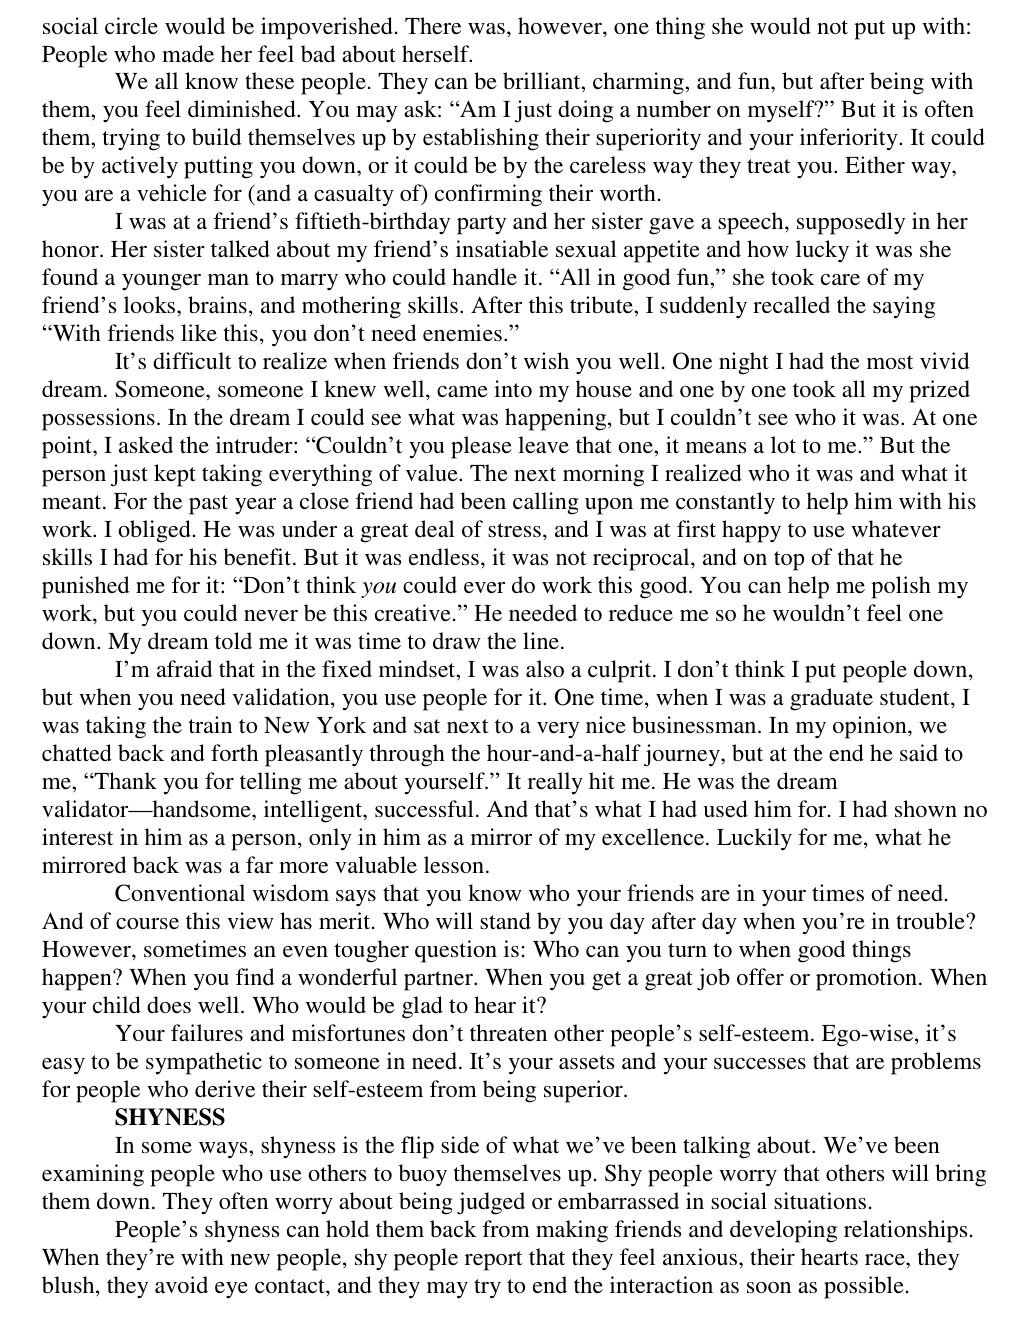latin: (29, 350, 980, 652), (34, 652, 991, 878), (38, 16, 986, 209), (35, 1137, 988, 1300), (29, 878, 988, 1020), (37, 209, 972, 351), (35, 1018, 995, 1105), (107, 1103, 229, 1128)
